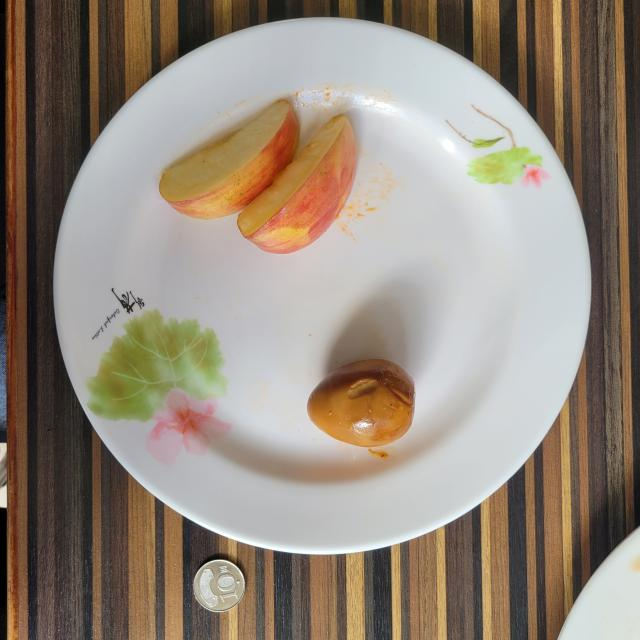apple -sliced-: (160, 100, 356, 252)
coin: (194, 560, 245, 612)
soy egg: (308, 359, 415, 448)
